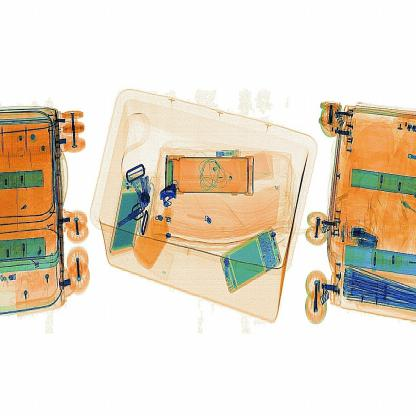knife: (158, 180, 182, 211)
